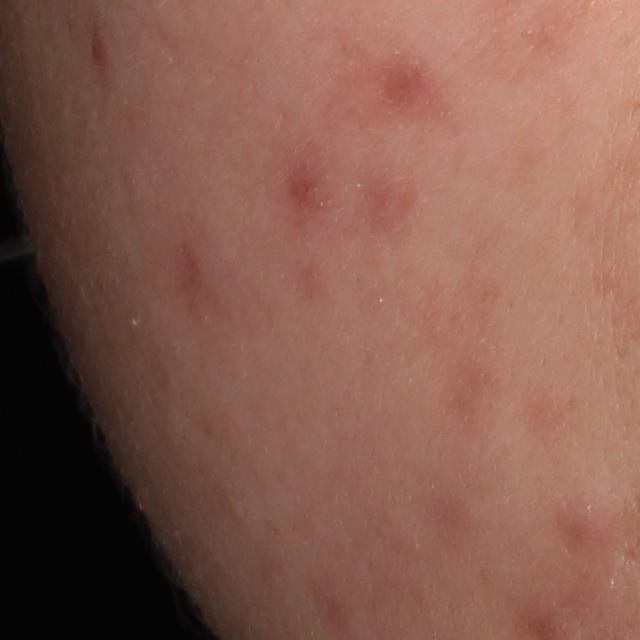papule: (552, 497, 613, 551)
